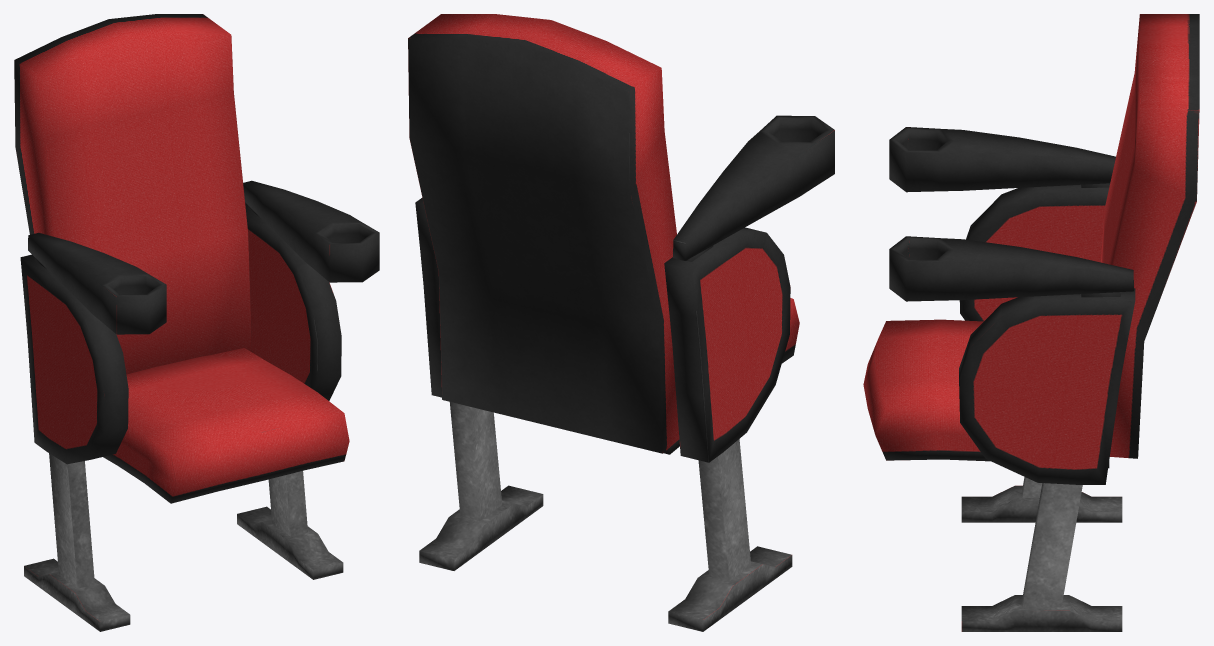
Rendered from low_poly_cinema_chair..glb.
3 views of the same model, side by side, from view 1: azimuth 30°, elevation 25°; view 2: azimuth 150°, elevation 25°; view 3: azimuth 270°, elevation 25° (orthographic). The views are drawn at different scales.
Parts seen in each view (by area): view 1: Cube.008; view 2: Cube.008; view 3: Cube.008.
Part boxes in pixels (x1,y1,x2,y2): Cube.008: (14, 14, 379, 631); Cube.008: (408, 14, 834, 631); Cube.008: (863, 14, 1199, 631).
Bounding box in the file's own units: 191 × 347 × 201.
Materials: 1 (1 with a texture image).
